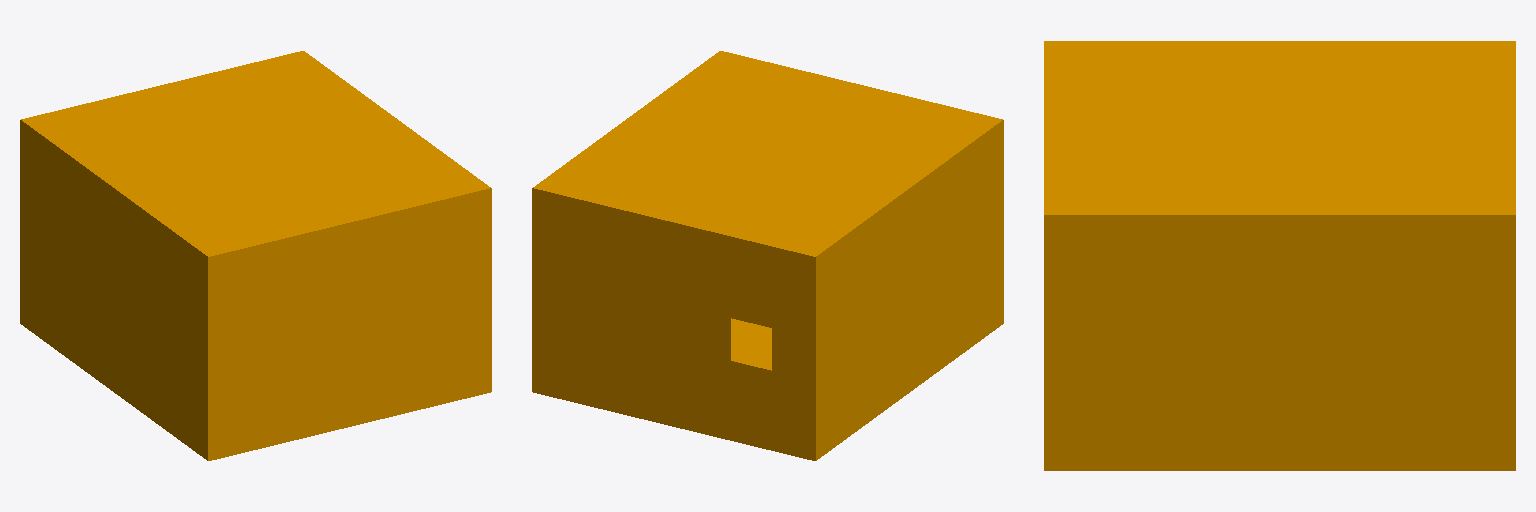
robot.urdf — oil-res-taller.off:
<?xml version="1.0"?>
<robot name="oil-res-taller.off">
	<link name="oil-res-taller.off">
		<inertial>
			<!--origin xyz="0 0 0" rpy="0 0 0" /-->
			<mass value="0.5" />
			<!--inertia ixx="0.000360" ixy="0" ixz="0" iyy="0.0000615" iyz="0" izz="0.00036" /-->
		</inertial>
    		<visual>
	      		<!--origin rpy="0 0 0" xyz="0 0 0"/-->
      			<geometry>
        			<mesh filename="oil-res-taller.off.obj"/>
      			</geometry>
         	</visual>
    		<collision>
      			<!--origin rpy="0 0 0" xyz="0 0 0"/-->
      			<geometry>
        			<mesh filename="oil-res-taller.off.obj"/>
      			</geometry>
    		</collision>
	</link>
</robot>

--- Render facts (derived) ---
Views: 3 orthographic renders of the robot side by side, from view 1: azimuth 30°, elevation 25°; view 2: azimuth 150°, elevation 25°; view 3: azimuth 270°, elevation 25°.
Robot: oil-res-taller.off — 1 links, 0 joints (none); root link oil-res-taller.off; default pose: every joint at zero.
Visible links, largest first — view 1: oil-res-taller.off; view 2: oil-res-taller.off; view 3: oil-res-taller.off.
Boxes of the visible links, bbox=[...] form: oil-res-taller.off: bbox=[20, 51, 491, 460]; oil-res-taller.off: bbox=[532, 51, 1003, 460]; oil-res-taller.off: bbox=[1044, 41, 1515, 470].
Size in the robot's own frame: 34.8 by 40 by 24 metres.
1 mesh visuals loaded from 1 distinct referenced files (1 OBJ).